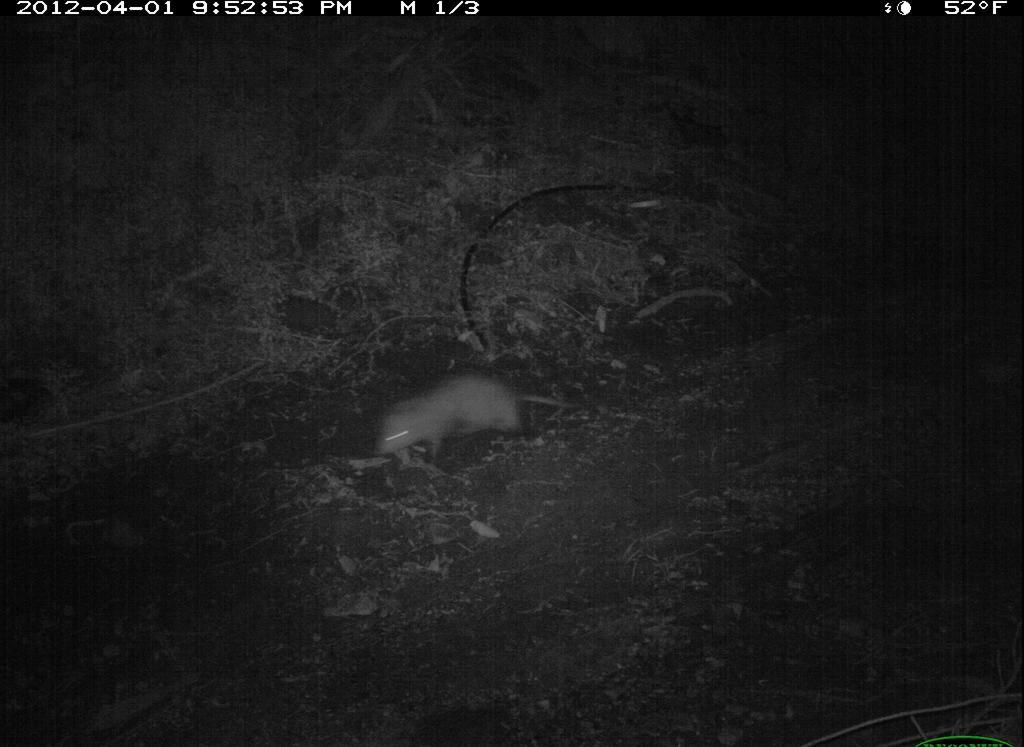opossum: (364, 365, 609, 474)
